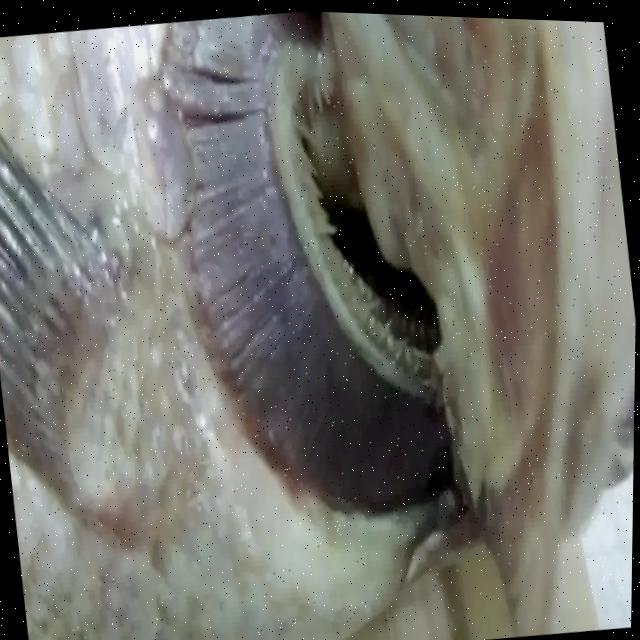Non-Fresh: (116, 4, 467, 574)
